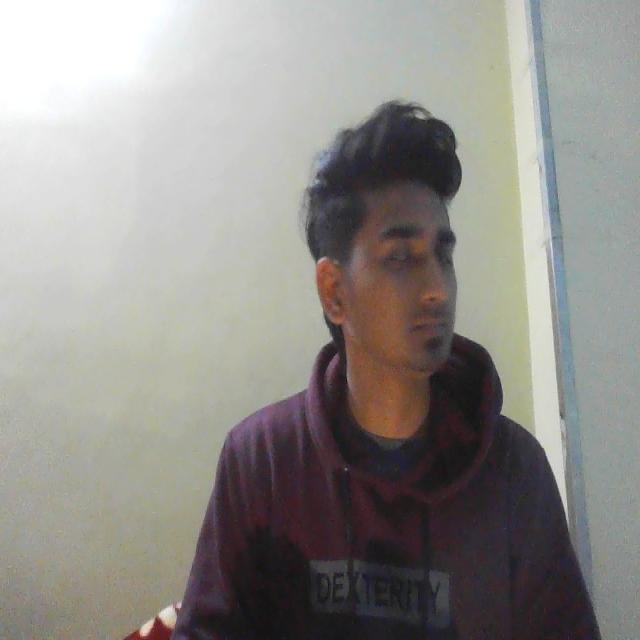real: (330, 126, 465, 382)
